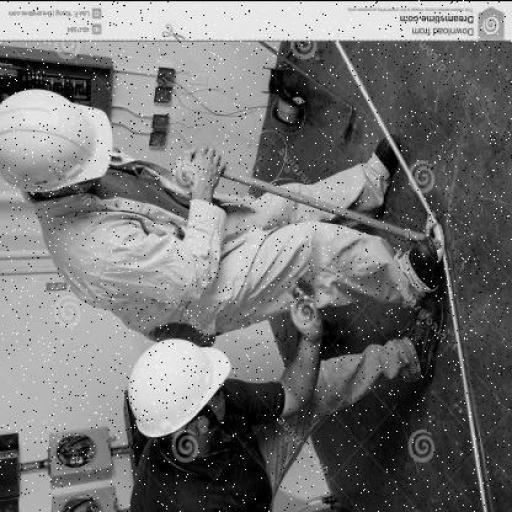person: (0, 83, 470, 338)
safety_shoe: (406, 290, 448, 383), (365, 134, 397, 203), (408, 234, 445, 282)
